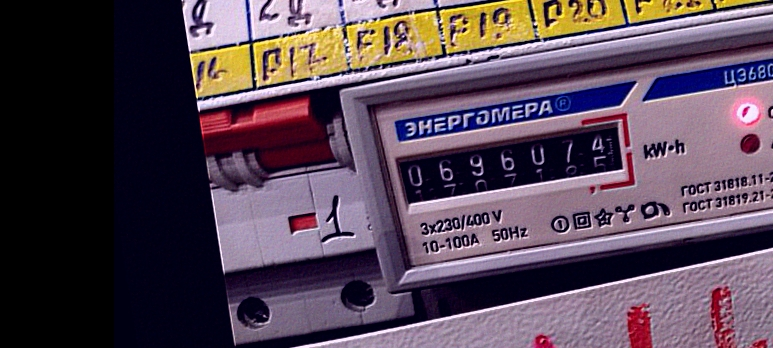0: (404, 162, 426, 189), (529, 140, 549, 168)
4: (589, 130, 609, 156)
5: (593, 153, 610, 173)
6: (436, 155, 459, 184), (498, 146, 518, 173)
7: (558, 136, 579, 164)
9: (466, 151, 489, 179)
screen: (383, 107, 644, 226)
